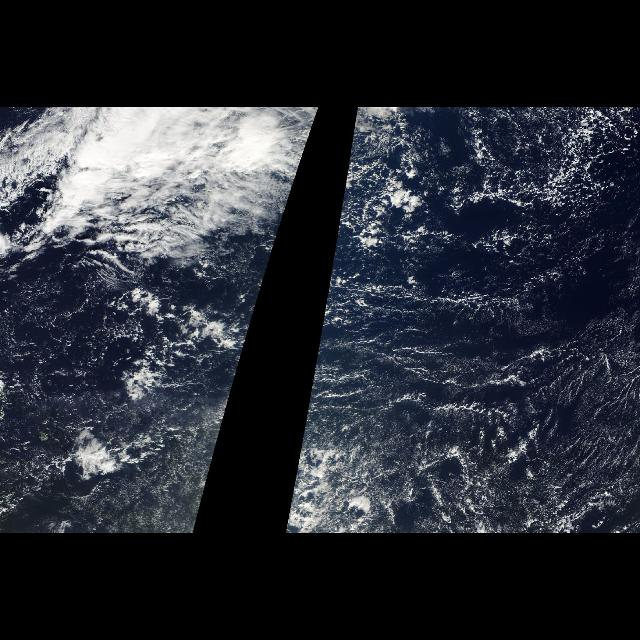Gravel: (15, 288, 154, 416)
Sugar: (325, 340, 639, 526)
